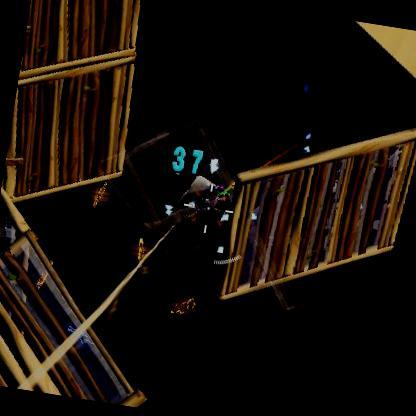person: (186, 180, 226, 225)
